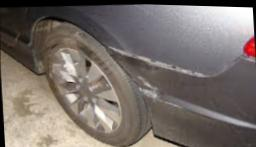Bumper: (109, 47, 187, 142)
